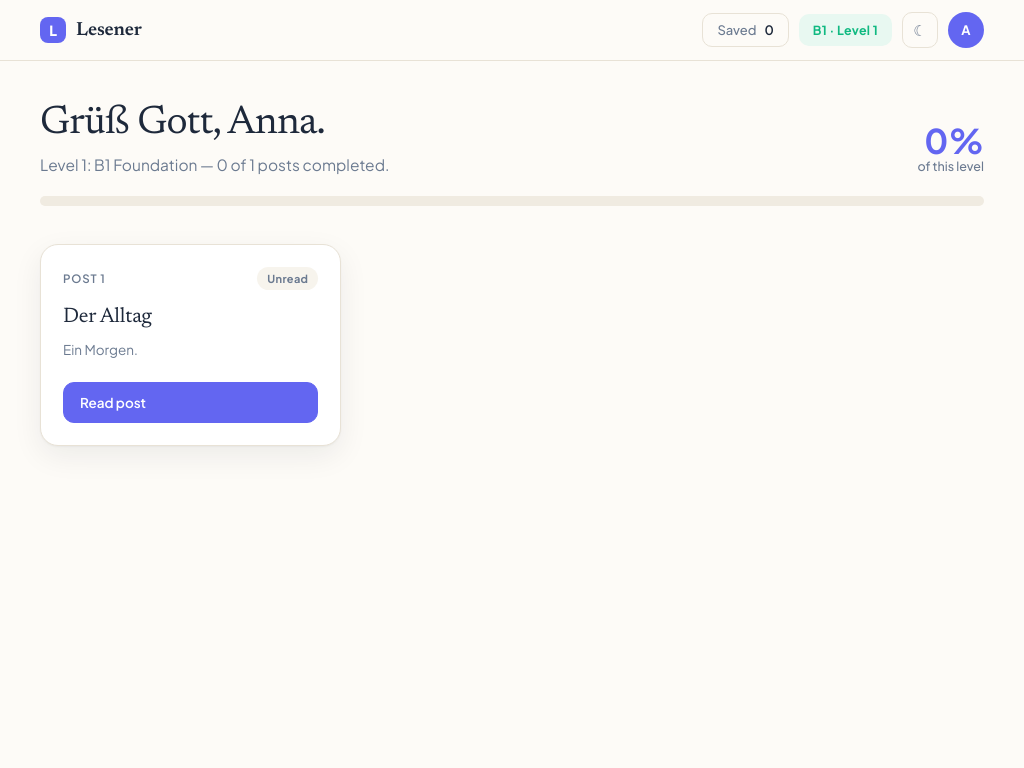
it: deleting your account › tells the reader it is done before the screen changes
The width and height of the screenshot is (1024, 768).
Click the button "A" at (966, 30), box [948,12,984,48]
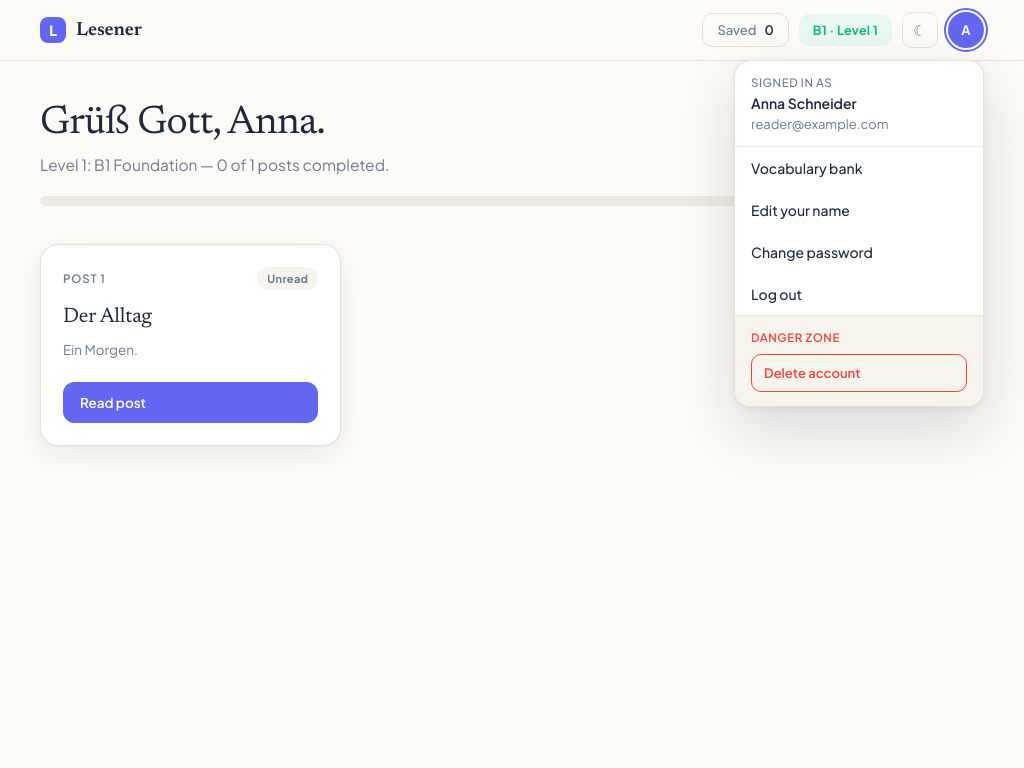
Click the button "Delete account" at (859, 373), box [751,354,967,392]
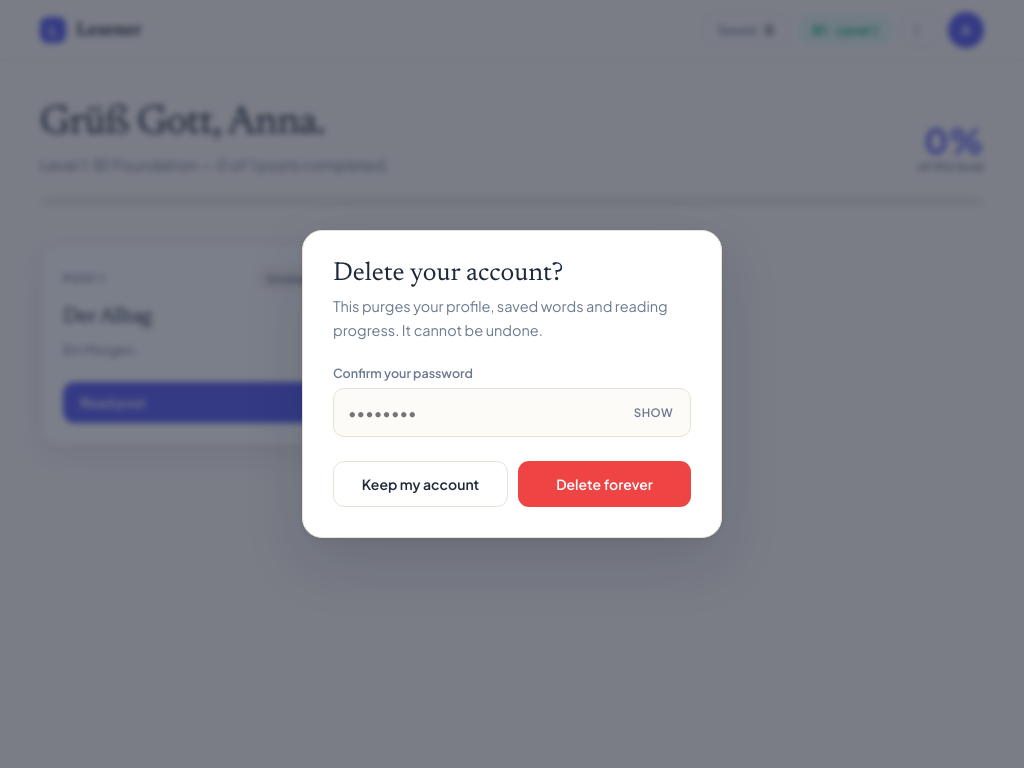
Type "hunter2" into the password field labelled "Confirm your password" at (512, 412), box [333,388,691,437]
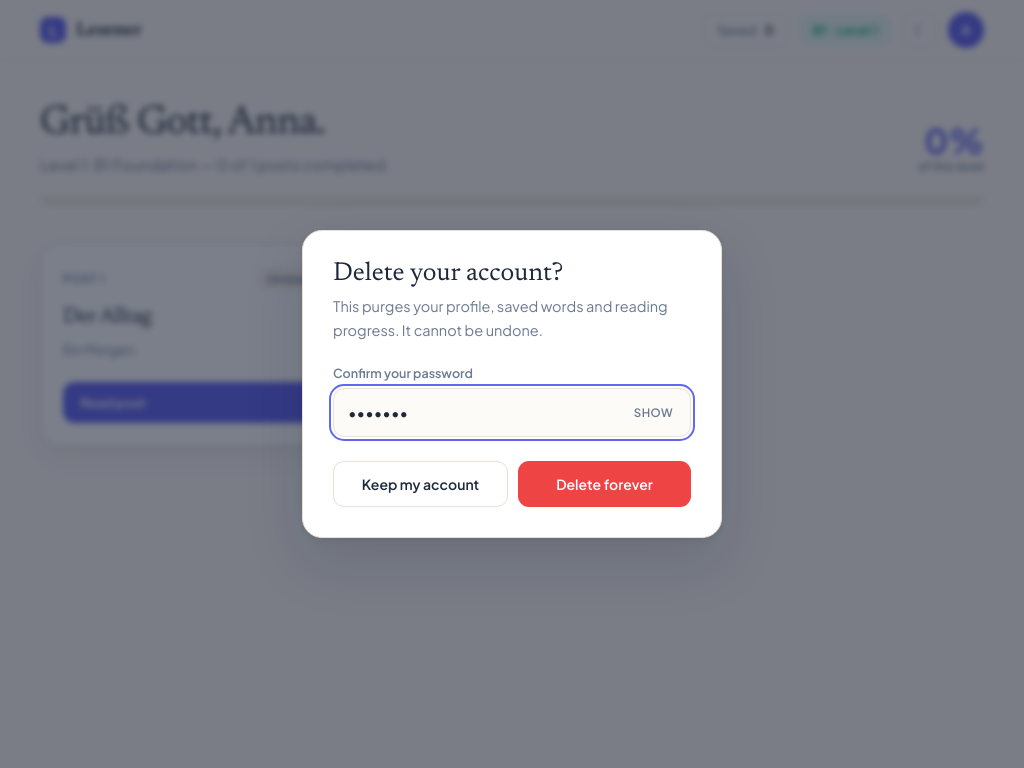
Click the button "Delete forever" at (604, 484), box [518,461,691,507]
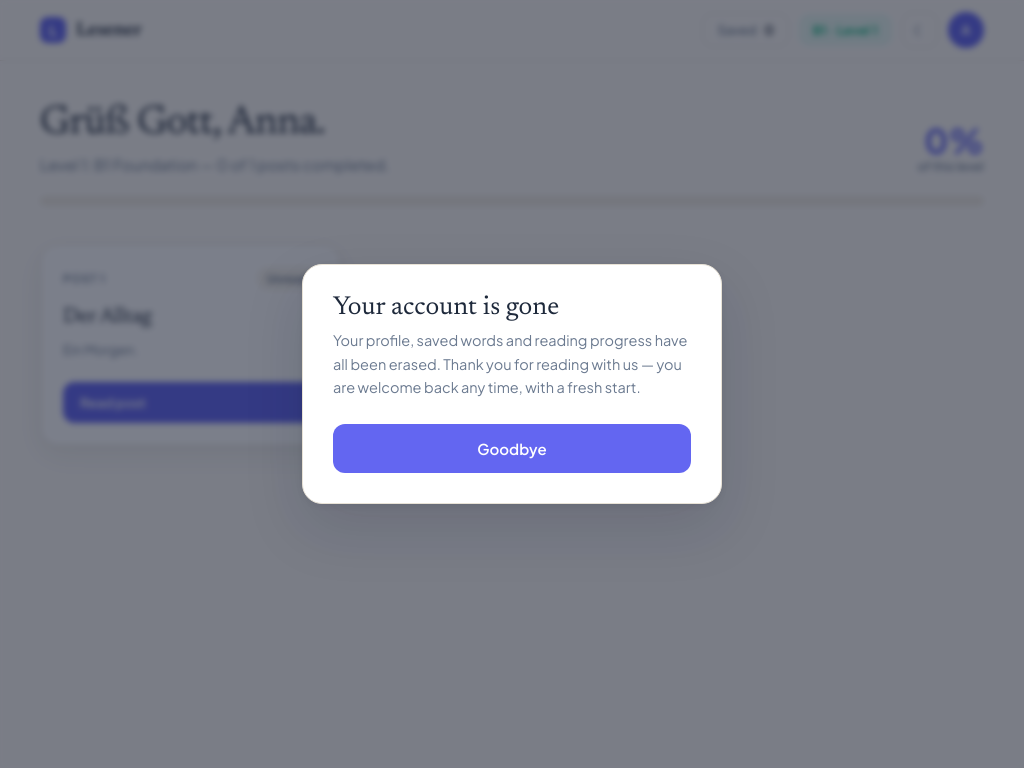
Result: the heading "Your account is gone" is shown at [333,295,559,321]
